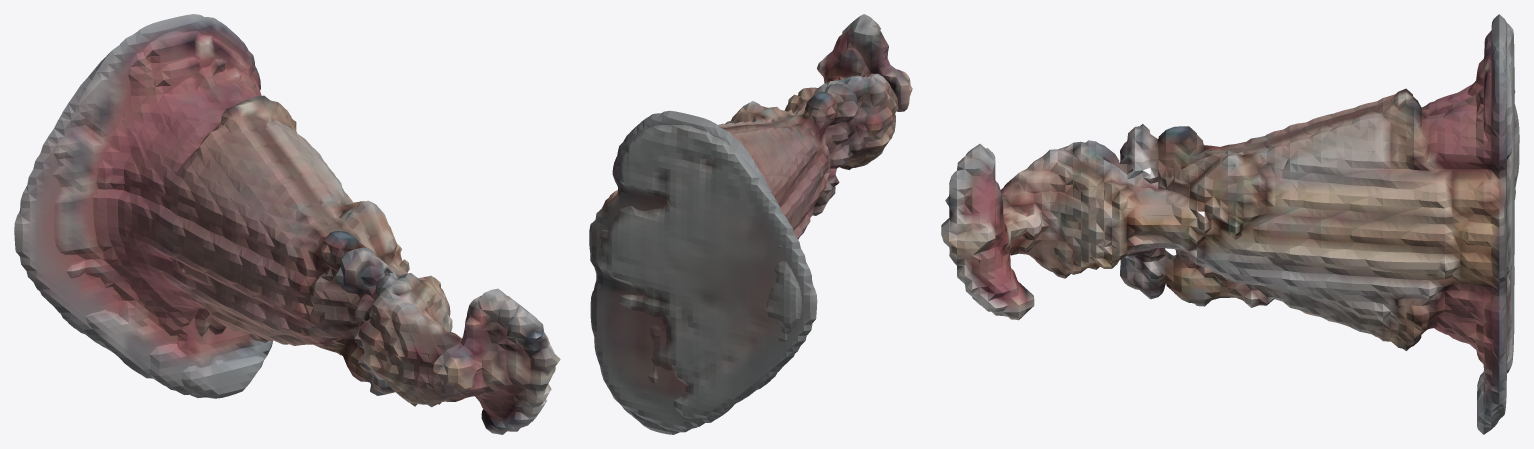
The model's file is renais_merchant_f_0.glb.
The picture shows the model from 3 angles, left to right: view 1: azimuth 30°, elevation 25°; view 2: azimuth 150°, elevation 25°; view 3: azimuth 270°, elevation 25°; orthographic projection. The views are drawn at different scales.
Visible parts, largest first — view 1: world; view 2: world; view 3: world.
Part boxes in pixels (x1,y1,x2,y2): world: (14, 14, 560, 434); world: (589, 14, 912, 434); world: (941, 14, 1519, 434).
Size of the model in its own units: 0.5433 by 0.7388 by 1.02.
